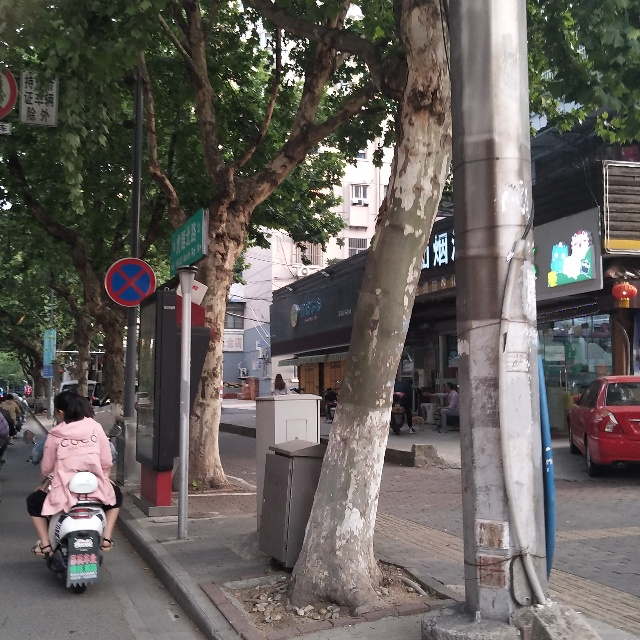stop: (102, 252, 158, 308)
